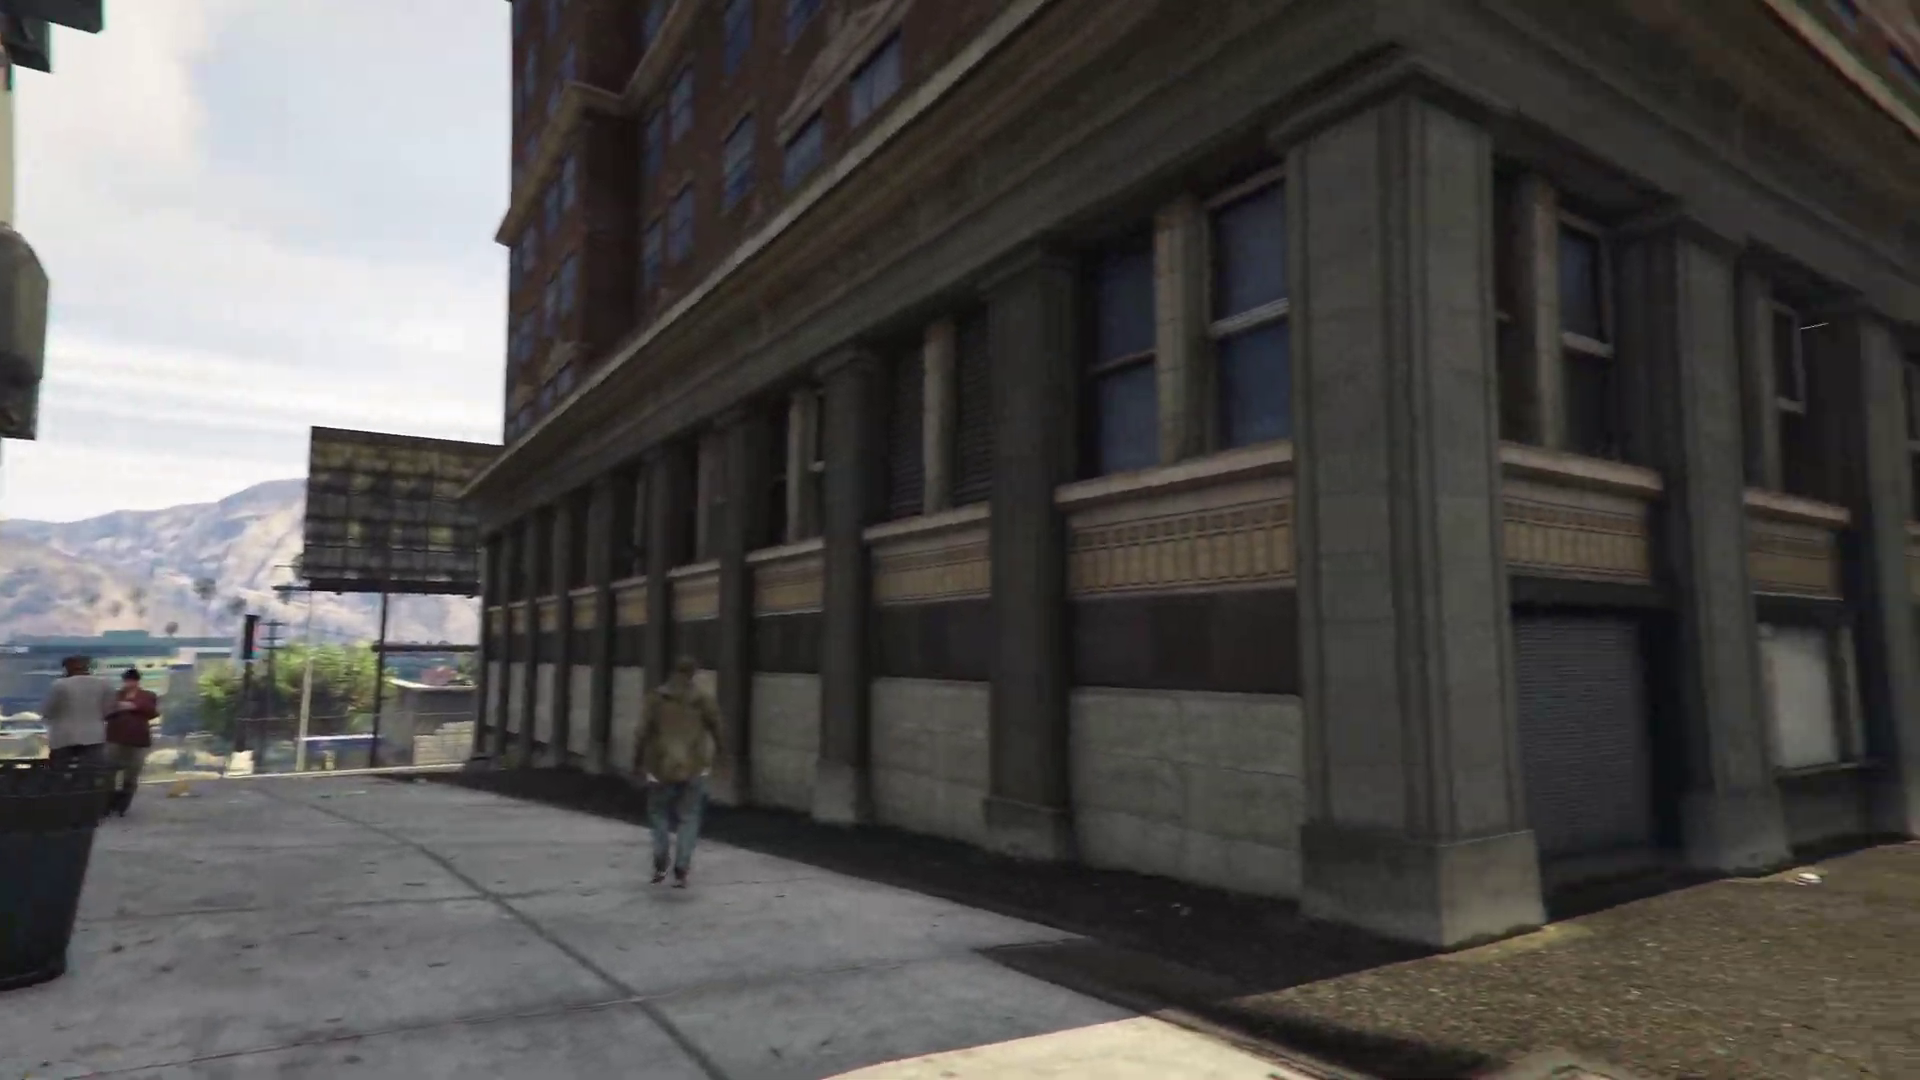person: (631, 651, 729, 882), (103, 666, 159, 815), (46, 657, 113, 768)
